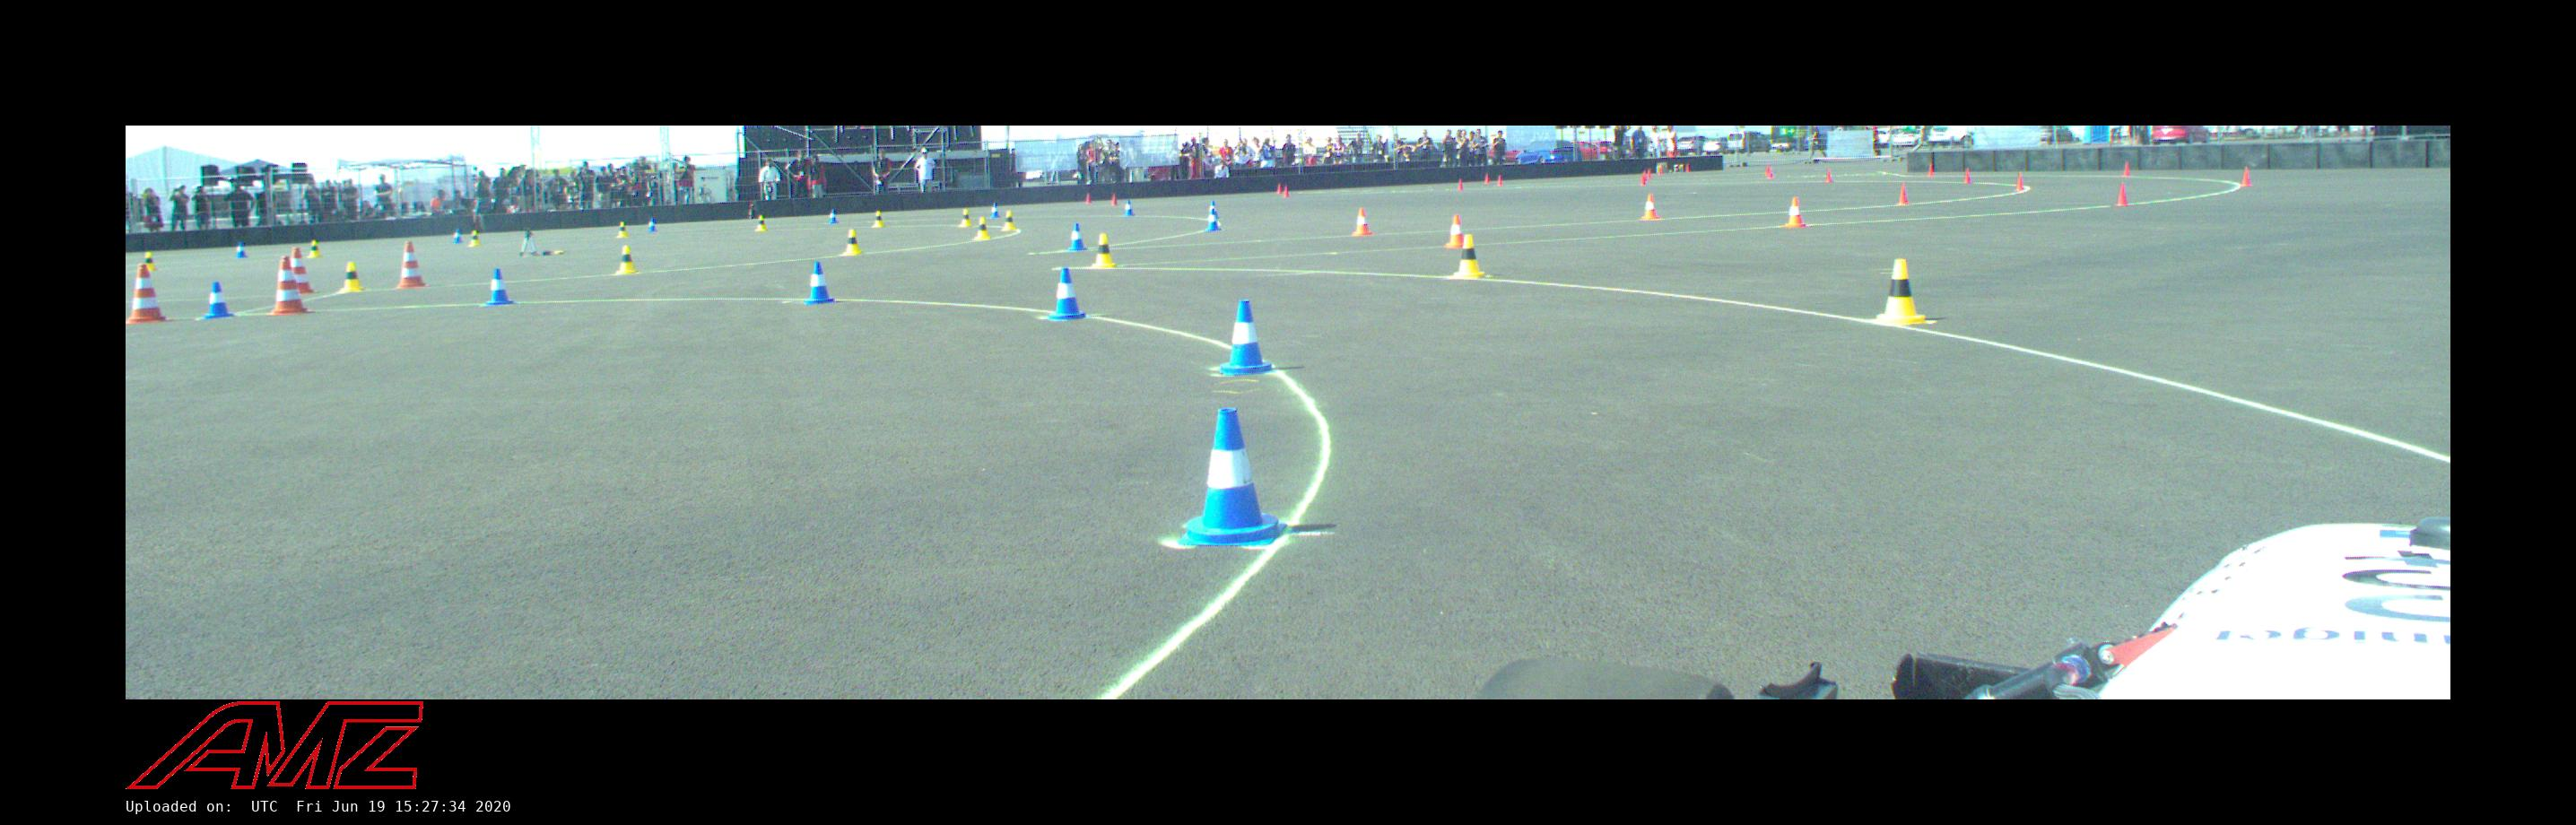blue_cone: (1176, 408, 1286, 546), (1216, 301, 1275, 373), (1045, 268, 1089, 320), (805, 261, 835, 304), (204, 281, 232, 319), (486, 268, 513, 306), (1066, 224, 1088, 251), (1206, 209, 1221, 232), (235, 242, 248, 258), (1124, 199, 1134, 217), (826, 210, 838, 225), (646, 219, 657, 232), (989, 202, 999, 217), (453, 228, 462, 242)
large_orange_cone: (268, 256, 312, 314), (128, 263, 169, 322), (394, 242, 427, 288), (292, 247, 315, 293)
orange_cone: (1784, 196, 1805, 227), (1446, 214, 1462, 248), (1640, 194, 1661, 220), (1352, 209, 1372, 235)
unknown_cone: (2114, 181, 2129, 205), (1897, 184, 1909, 205), (2239, 164, 2251, 186), (2121, 159, 2132, 177), (2016, 173, 2024, 192), (1963, 166, 1971, 184), (1824, 169, 1833, 182), (1109, 194, 1119, 207), (1925, 164, 1935, 176), (1457, 177, 1465, 191), (1495, 174, 1503, 186), (1483, 173, 1492, 184), (1283, 186, 1290, 197), (1275, 182, 1281, 194), (1084, 192, 1091, 204)
yellow_cone: (1875, 258, 1925, 325), (1451, 233, 1485, 278), (1089, 233, 1117, 268), (342, 261, 363, 293), (616, 245, 637, 273), (843, 228, 864, 255), (974, 217, 989, 238), (1002, 210, 1017, 232), (307, 240, 324, 258), (871, 210, 885, 228), (959, 209, 973, 227), (754, 214, 767, 232), (616, 220, 629, 238), (145, 251, 154, 271), (468, 230, 480, 247)
